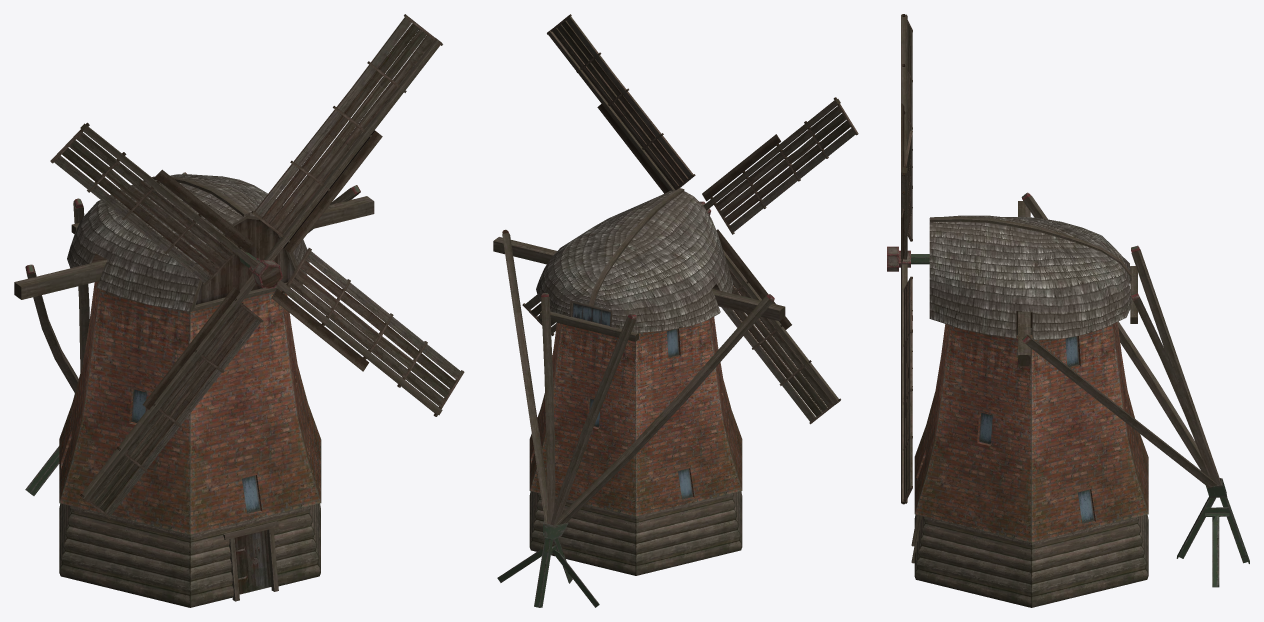
3 renders of one model, left to right at view 1: azimuth 30°, elevation 25°; view 2: azimuth 150°, elevation 25°; view 3: azimuth 270°, elevation 25°, orthographic. The views are drawn at different scales.
Visible parts, largest first — view 1: lod_0; view 2: lod_0; view 3: lod_0.
Part boxes in pixels (x1=…): lod_0: x1=14, y1=14, x2=464, y2=607; lod_0: x1=493, y1=14, x2=858, y2=607; lod_0: x1=887, y1=14, x2=1249, y2=607.
Size of the model in its own units: 1.96 by 2.53 by 1.67.
1 material, 1 textured.
